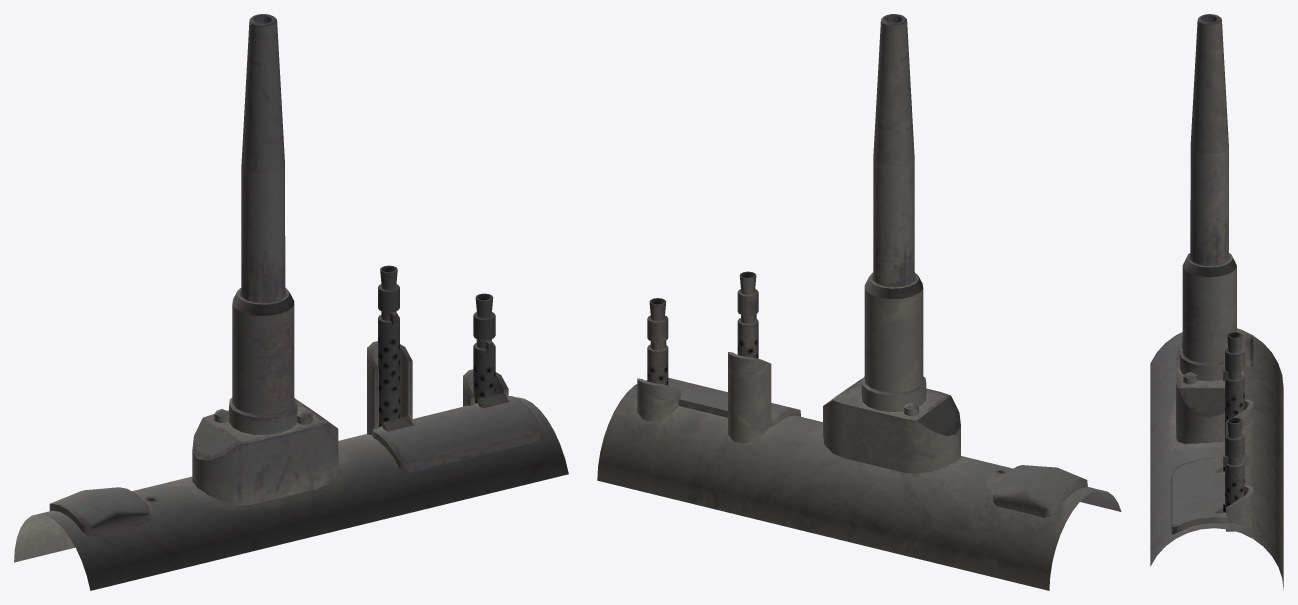
The model's file is Gun_04.glb.
3 views of the same model, side by side, from view 1: azimuth 30°, elevation 25°; view 2: azimuth 150°, elevation 25°; view 3: azimuth 270°, elevation 25° (orthographic). The views are drawn at different scales.
Visible parts, largest first — view 1: set_0_group_0; view 2: set_0_group_0; view 3: set_0_group_0.
Part boxes in pixels (x1,y1,x2,y2): set_0_group_0: (14, 14, 568, 590); set_0_group_0: (597, 14, 1121, 590); set_0_group_0: (1150, 14, 1283, 589).
Bounding box in the file's own units: 1.12 × 1.17 × 0.3101.
1 material, 1 textured.
